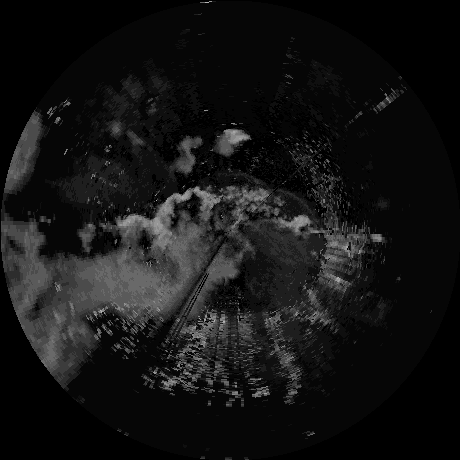frontgust: (277, 189, 321, 228), (226, 168, 267, 188)
